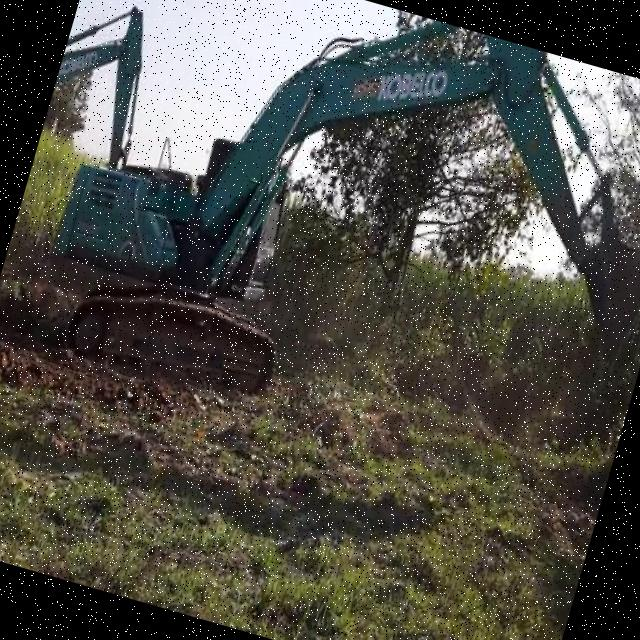Excavator: (24, 0, 640, 500)
